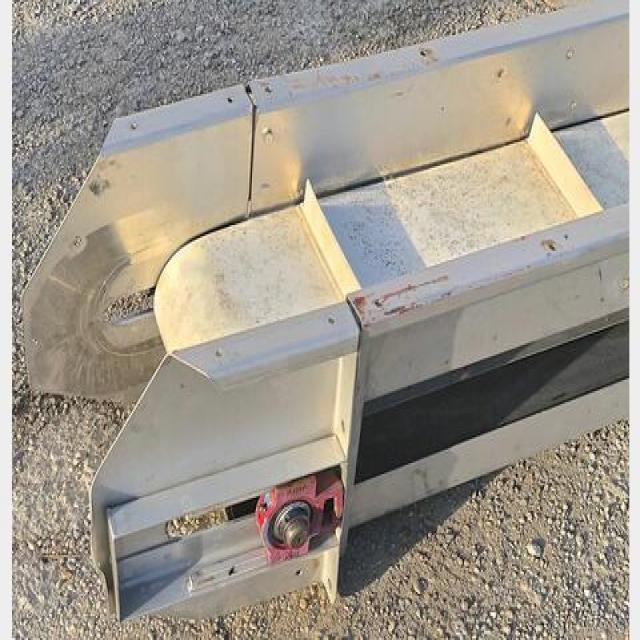Convoyeur: (29, 0, 631, 627)
